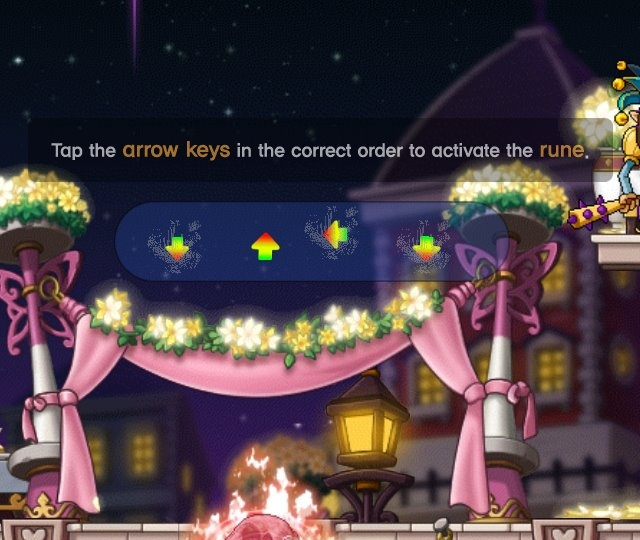rune_box: (105, 193, 525, 288)
